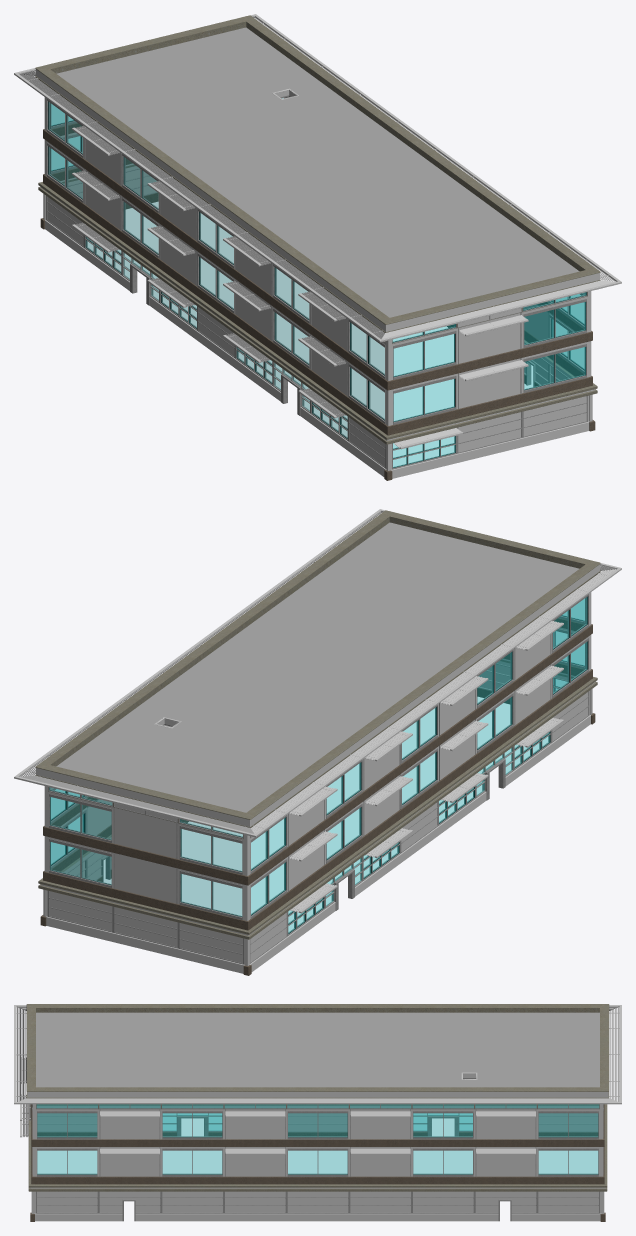
The model's file is Building04.fbx.
The picture shows the model from 3 angles, top to bottom: view 1: azimuth 30°, elevation 25°; view 2: azimuth 150°, elevation 25°; view 3: azimuth 270°, elevation 25°; orthographic projection. The views are drawn at different scales.
Parts seen in each view (by area): view 1: Building04; view 2: Building04; view 3: Building04.
Boxes of the visible parts, x1,y1,x2,y2 form: Building04: (14, 14, 621, 480); Building04: (14, 509, 621, 975); Building04: (14, 1004, 621, 1221).
Bounding box in the file's own units: 2283 × 1435 × 5982.
